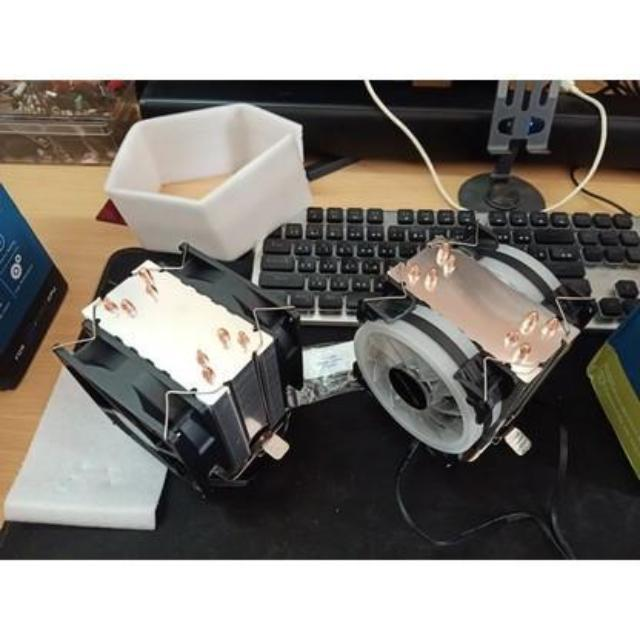CPU_Fan: (51, 240, 306, 502), (353, 230, 585, 487)
